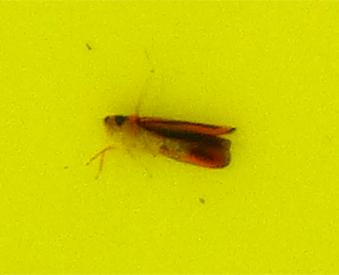Hemiptera: (100, 100, 239, 175)
